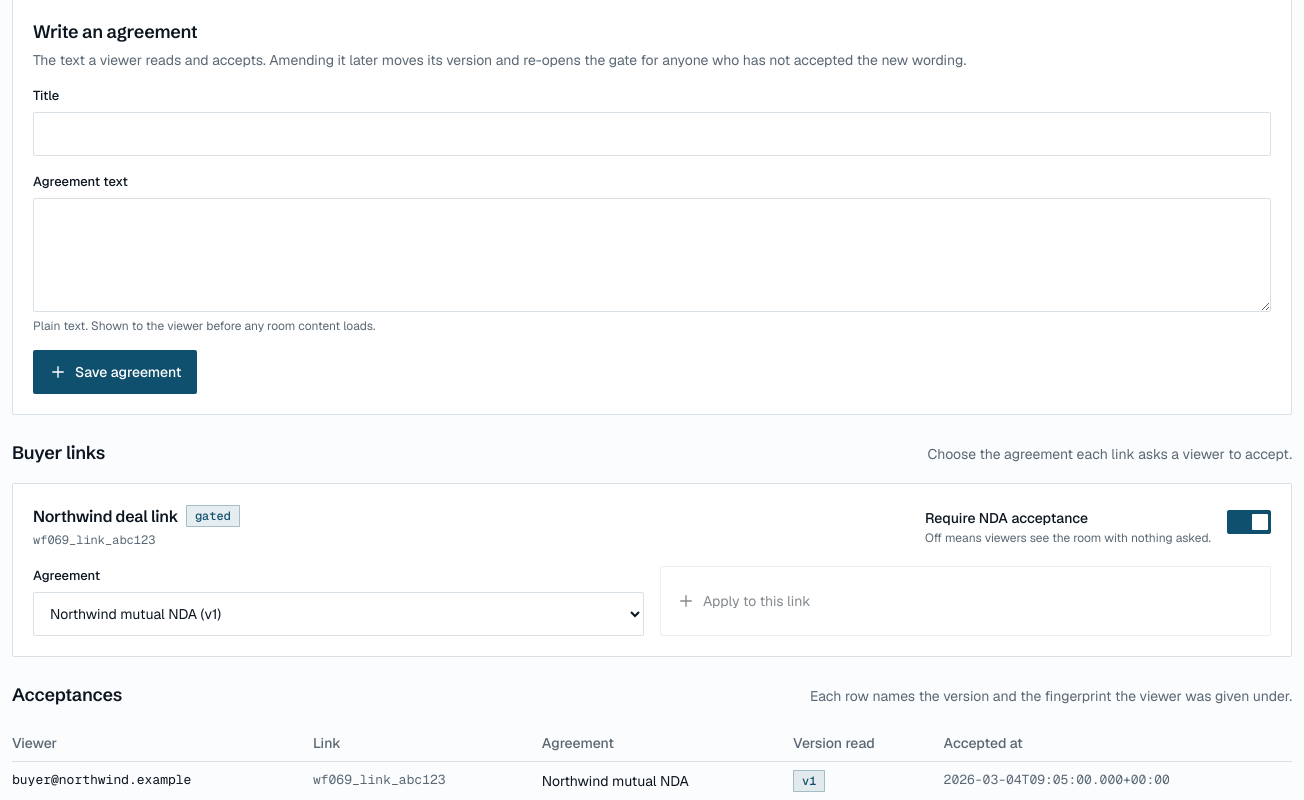
Test: the seller board › reports a refusal next to the control that caused it
(page scrolled)
Expected: the heading "Northwind deal link" is shown, [33,504,178,528]
Click the switch named "require nda acceptance" at {"x": 1249, "y": 522}, box [1227,510,1271,534]
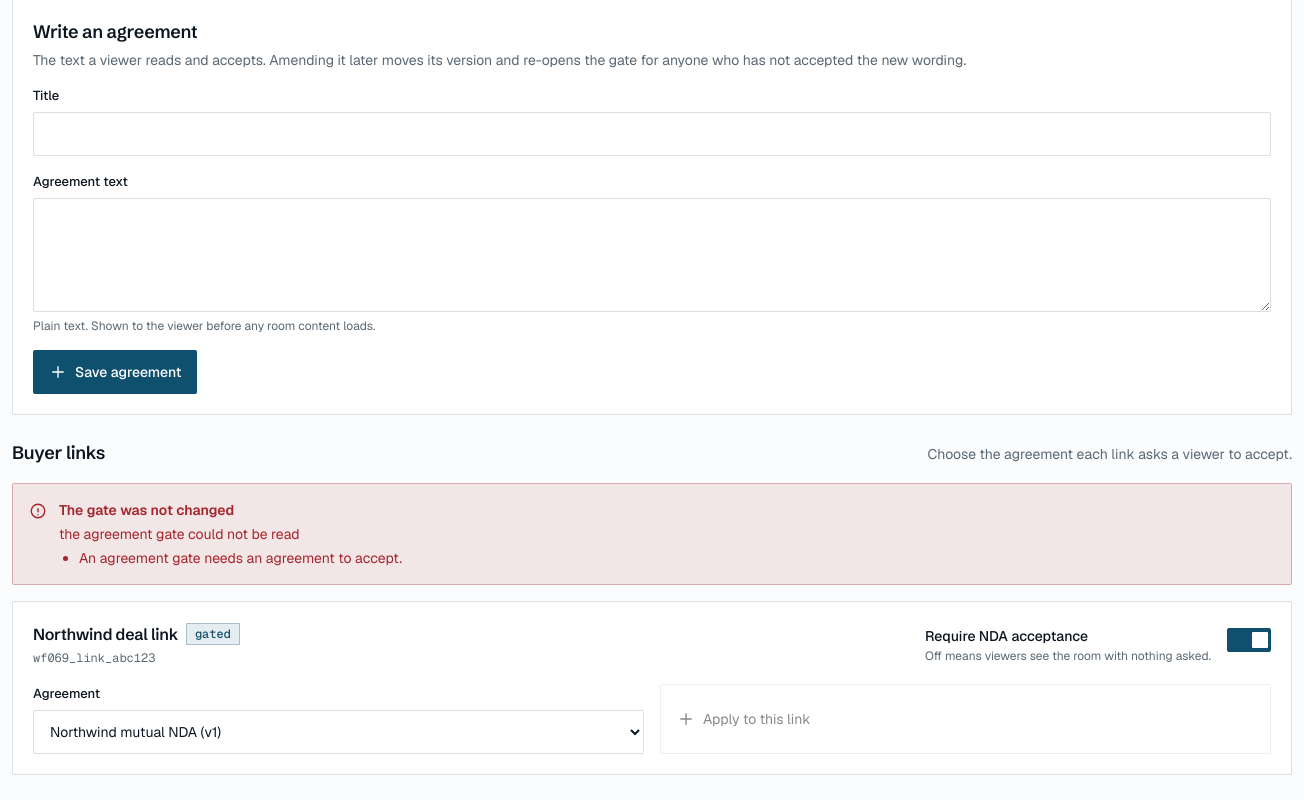
Now the text "The gate was not changed" is shown, box [59,501,234,519]
Now the list item "An agreement gate needs an agreement to accept." is shown, box [79,549,402,567]
